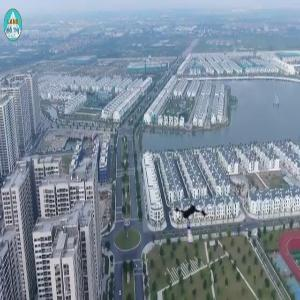drone: (170, 195, 220, 245)
